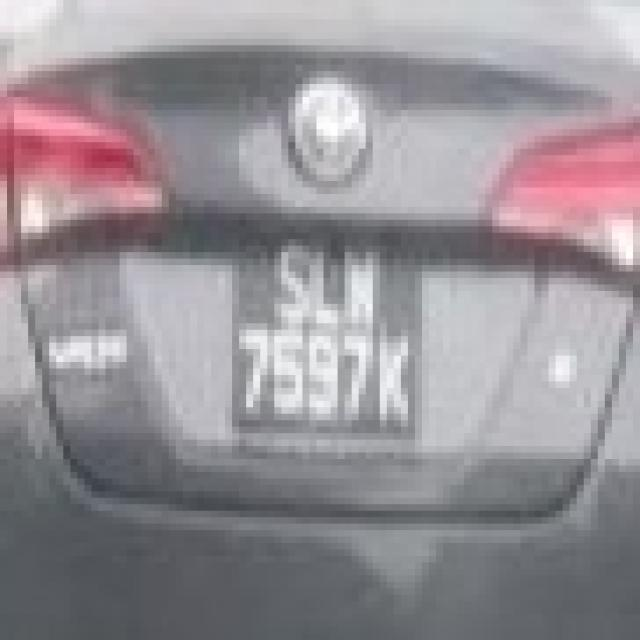5: (272, 329, 303, 415)
7: (238, 325, 268, 411), (342, 332, 370, 422)
9: (307, 332, 340, 422)
K: (374, 330, 410, 426)
L: (313, 246, 342, 326)
M: (345, 250, 378, 332)
S: (277, 241, 308, 324)
